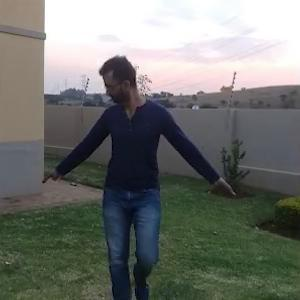land: (36, 47, 238, 291)
